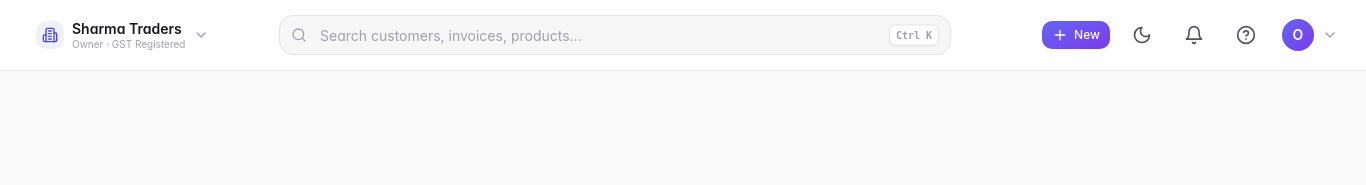
Header — "+ Add New Business" opens only the create form › the switcher entry navigates to /setup-business and touches nothing else
Click the button titled "Sharma Traders": click(123, 35) x1=24 y1=12 x2=222 y2=58
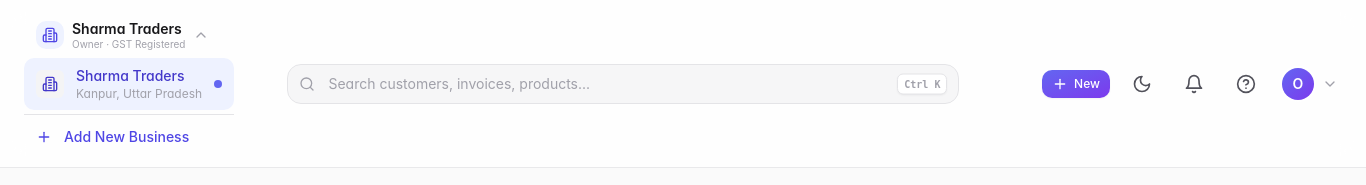
Click the button "Add New Business": click(129, 137) x1=24 y1=119 x2=234 y2=155
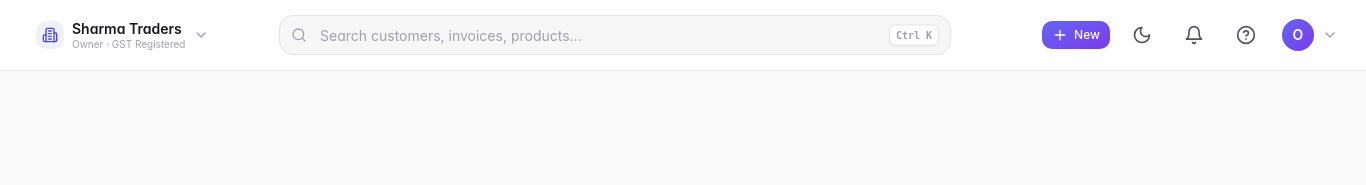
Result: the button "Add New Business" is gone
